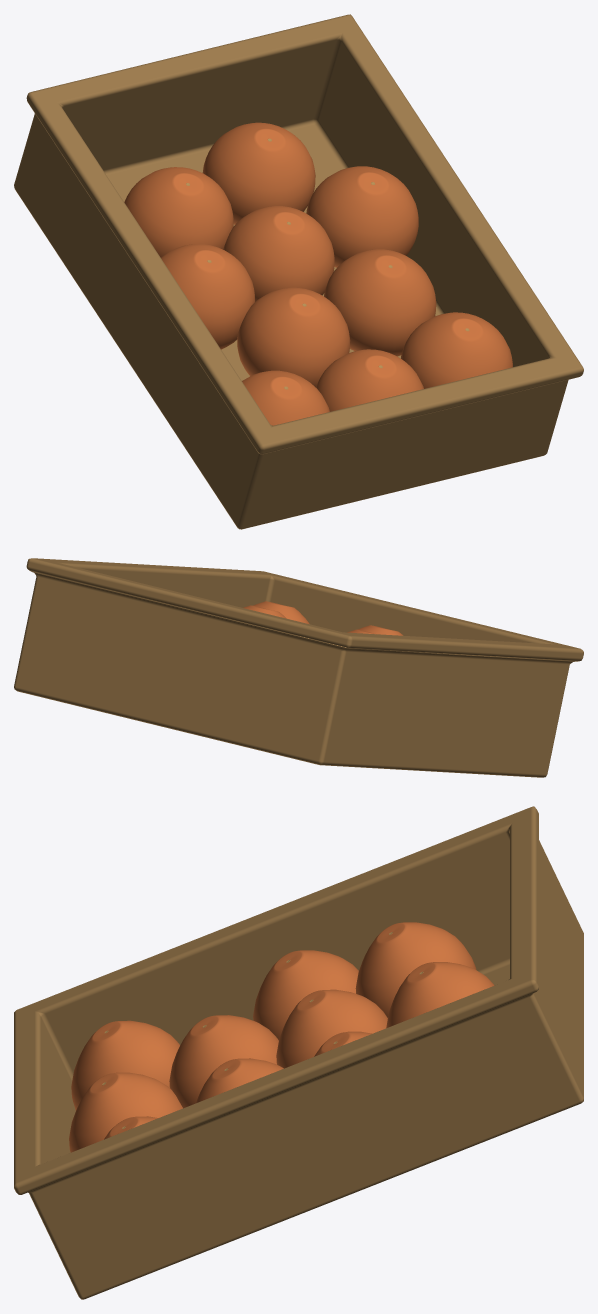
Rendered from grapefruit_basket.fbx.
3 renders of one model, top to bottom at view 1: azimuth 30°, elevation 25°; view 2: azimuth 150°, elevation 25°; view 3: azimuth 270°, elevation 25°, orthographic. The views are drawn at different scales.
Visible parts, largest first — view 1: grapefruit_basket; view 2: grapefruit_basket; view 3: grapefruit_basket.
Boxes of the visible parts, x1,y1,x2,y2 form: grapefruit_basket: (14,14,583,529); grapefruit_basket: (14,558,583,777); grapefruit_basket: (14,806,583,1299).
Bounding box in the file's own units: 33.01 × 28.2 × 45.02.
